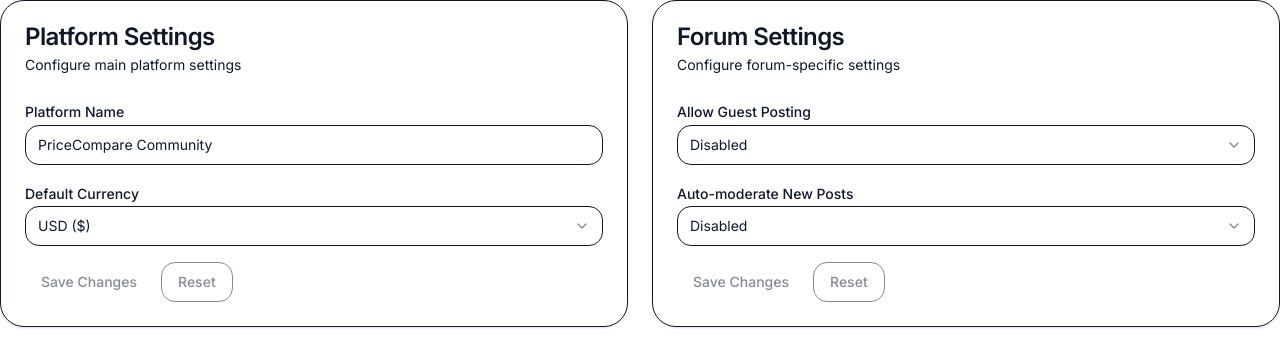
Scenario: AdminSettings › should show unsaved changes badge when platform settings change
Replace the text in the field labelled "Platform Name" with "Changed Name" at {"x": 314, "y": 145}, box [25, 125, 603, 165]
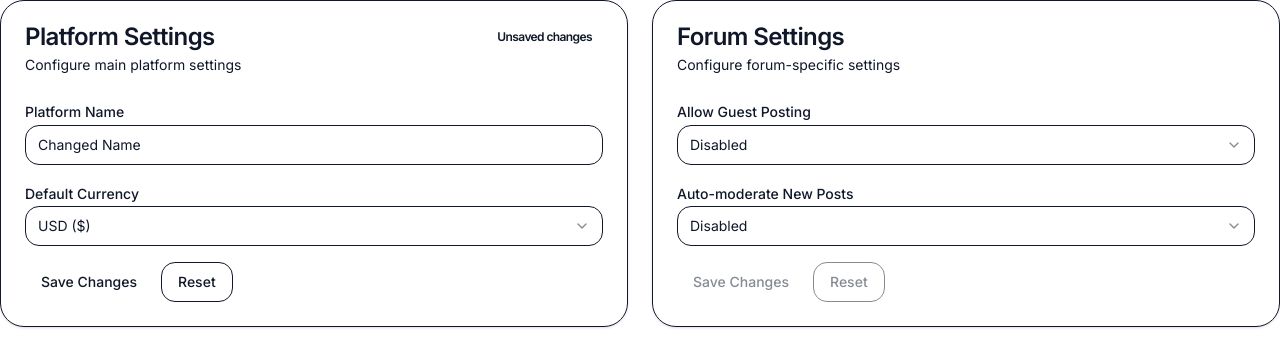
Expected: the text "Unsaved changes" is shown, [497, 29, 592, 44]
